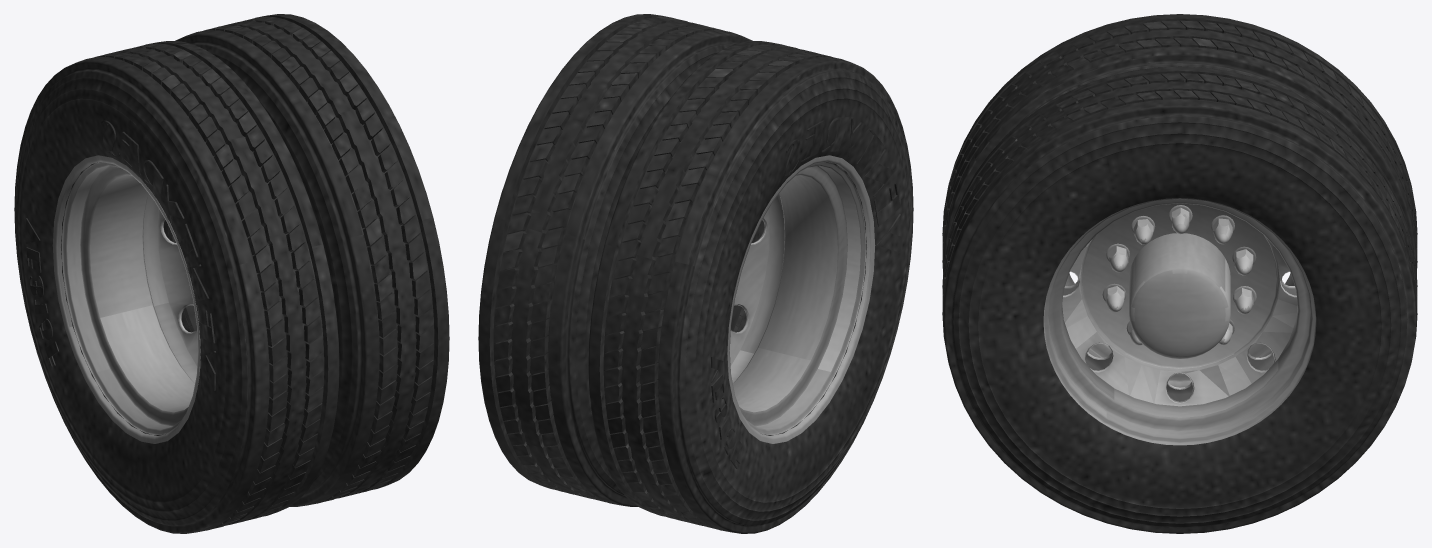
Rendered from llanta_tras_izq.obj.
3 renders of one model, left to right at view 1: azimuth 30°, elevation 25°; view 2: azimuth 150°, elevation 25°; view 3: azimuth 270°, elevation 25°, orthographic. The views are drawn at different scales.
Parts seen in each view (by area): view 1: Llanta_tras_der, rin; view 2: Llanta_tras_der, rin; view 3: Llanta_tras_der, rin, rin001.
Boxes of the visible parts, x1=… form: Llanta_tras_der: x1=14, y1=14, x2=449, y2=533; rin: x1=52, y1=155, x2=200, y2=443; Llanta_tras_der: x1=478, y1=14, x2=913, y2=533; rin: x1=727, y1=155, x2=875, y2=443; Llanta_tras_der: x1=942, y1=14, x2=1417, y2=533; rin: x1=1043, y1=198, x2=1316, y2=445; rin001: x1=1063, y1=265, x2=1296, y2=401.
Size of the model in its own units: 0.3501 by 0.6655 by 0.6656.
